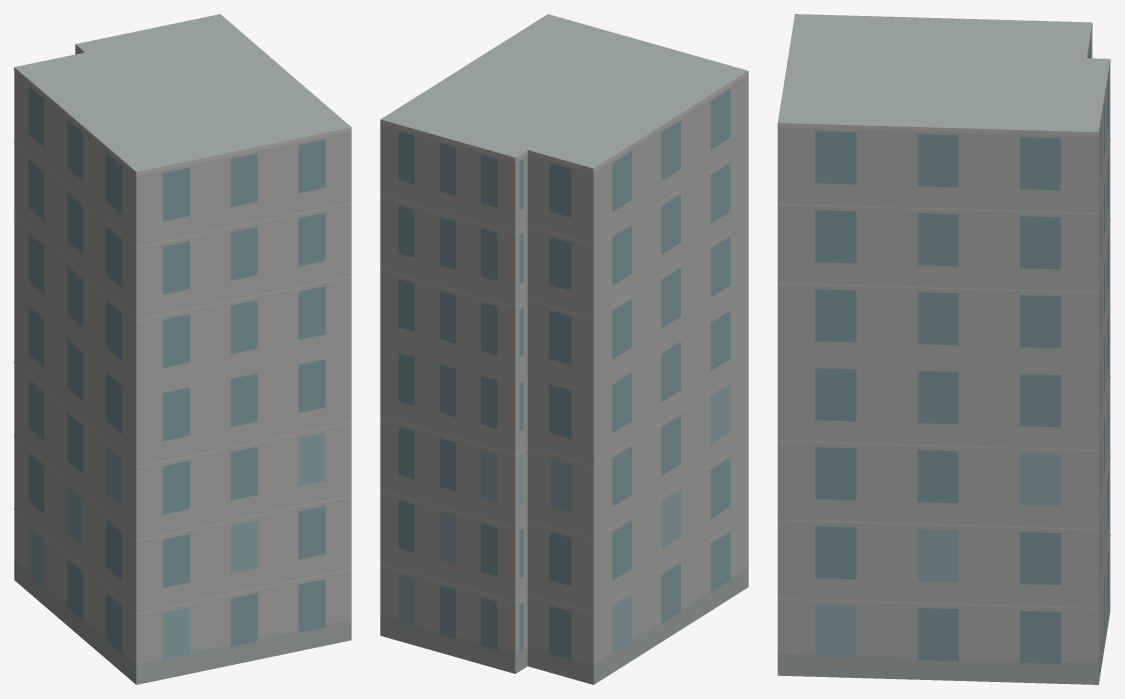
Rendered from survey-upis-32882280.glb.
3 renders of one model, left to right at view 1: azimuth 30°, elevation 25°; view 2: azimuth 150°, elevation 25°; view 3: azimuth 270°, elevation 25°, orthographic. The views are drawn at different scales.
Parts seen in each view (by area): view 1: survey-upis-32882280.tmp; view 2: survey-upis-32882280.tmp; view 3: survey-upis-32882280.tmp.
Boxes of the visible parts, bbox=[...] form: survey-upis-32882280.tmp: bbox=[14, 14, 351, 684]; survey-upis-32882280.tmp: bbox=[380, 14, 748, 684]; survey-upis-32882280.tmp: bbox=[777, 14, 1110, 684].
Bounding box in the file's own units: 14.04 × 30.54 × 16.68.
